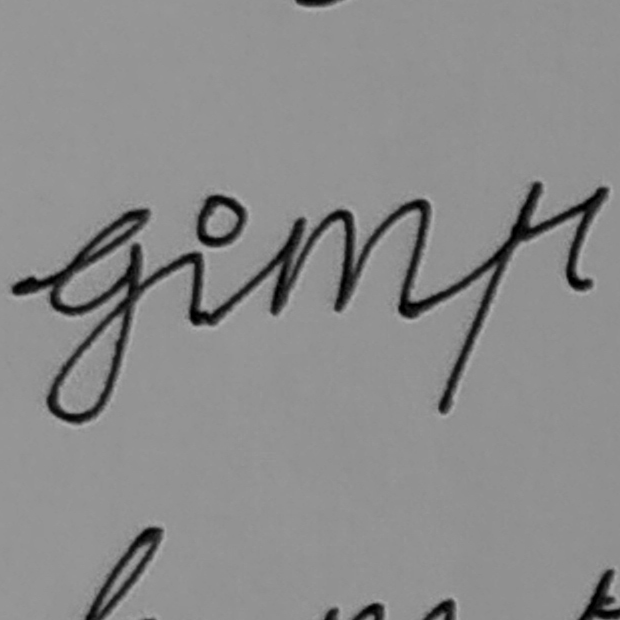g: (38, 201, 154, 433)
i: (173, 187, 250, 336)
m: (267, 193, 437, 320)
p: (432, 177, 613, 420)
